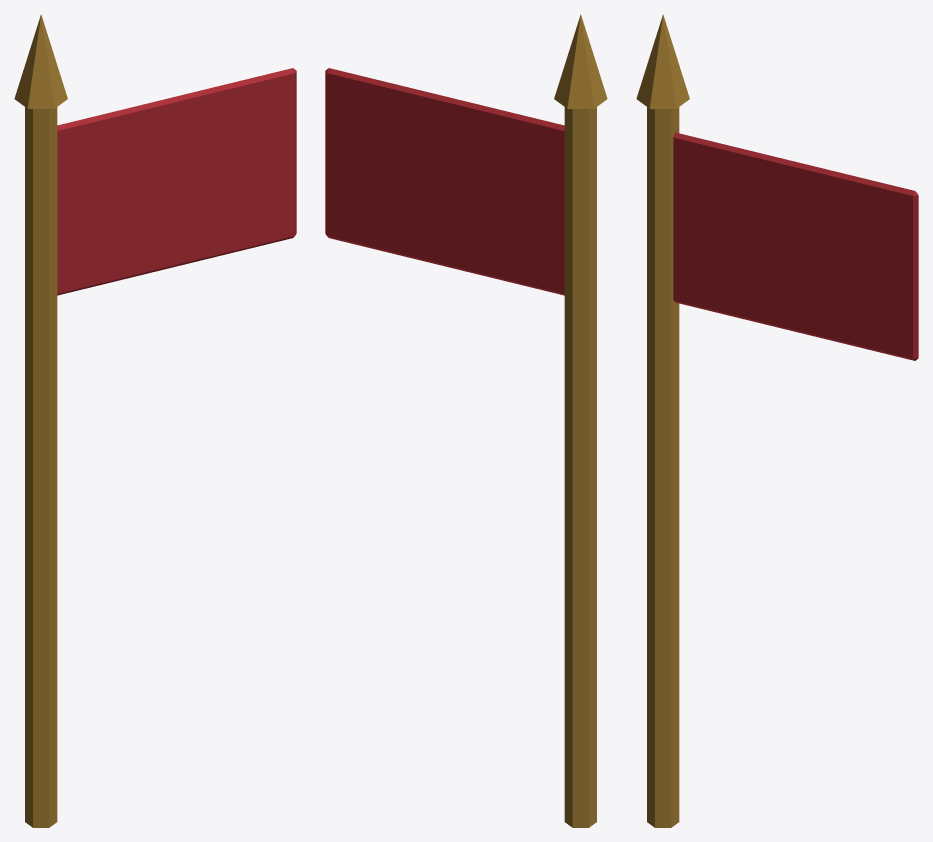
File: flag.glb
The picture shows the model from 3 angles, left to right: view 1: azimuth 30°, elevation 25°; view 2: azimuth 150°, elevation 25°; view 3: azimuth 330°, elevation 25°; orthographic projection.
Parts seen in each view (by area): view 1: Cloth_mesh, Body_mesh; view 2: Cloth_mesh, Body_mesh; view 3: Cloth_mesh, Body_mesh.
Boxes of the visible parts, x1=… form: Cloth_mesh: x1=57, y1=68, x2=296, y2=295; Body_mesh: x1=14, y1=14, x2=67, y2=827; Cloth_mesh: x1=325, y1=68, x2=564, y2=295; Body_mesh: x1=554, y1=14, x2=607, y2=827; Cloth_mesh: x1=673, y1=132, x2=918, y2=360; Body_mesh: x1=636, y1=14, x2=689, y2=827.
Size of the model in its own units: 0.2373 by 0.665 by 0.04.
